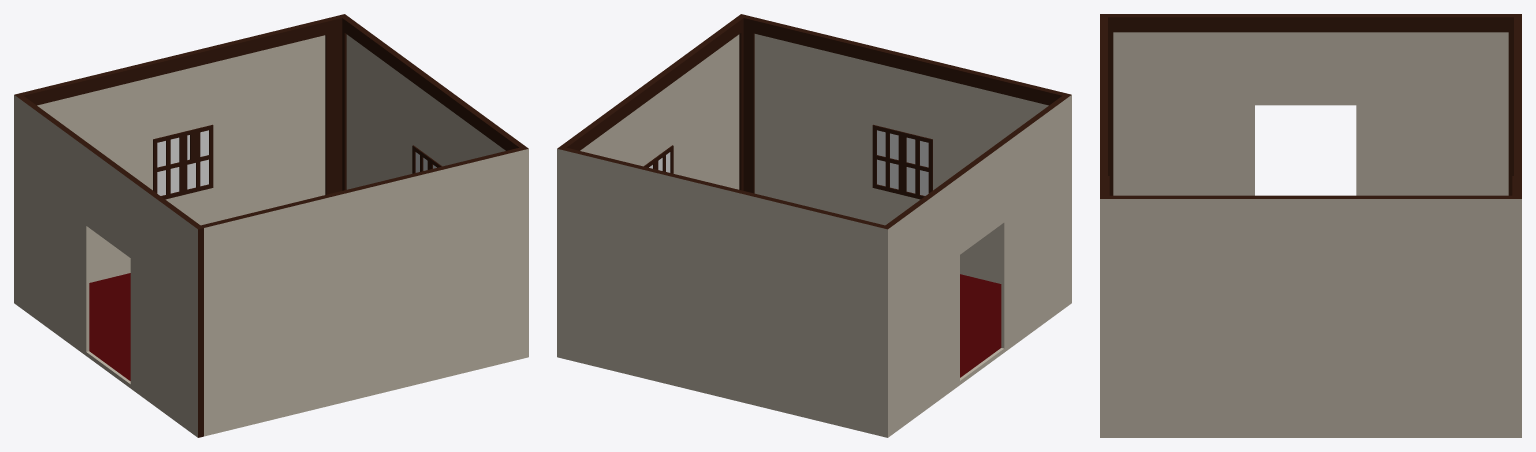
Rendered from StartRoom.fbx.
The picture shows the model from 3 angles, left to right: view 1: azimuth 30°, elevation 25°; view 2: azimuth 150°, elevation 25°; view 3: azimuth 270°, elevation 25°; orthographic projection. The views are drawn at different scales.
Visible parts, largest first — view 1: BackWall.001, BackWall.002, BackWall, Ground Floor; view 2: BackWall.001, BackWall.002, BackWall, Ground Floor; view 3: BackWall, BackWall.001, BackWall.002.
Part boxes in pixels (x1=…): BackWall.001: x1=14, y1=15, x2=342, y2=437; BackWall.002: x1=201, y1=147, x2=522, y2=436; BackWall: x1=339, y1=14, x2=528, y2=358; Ground Floor: x1=89, y1=273, x2=130, y2=380; BackWall.001: x1=563, y1=93, x2=1071, y2=437; BackWall.002: x1=743, y1=15, x2=1065, y2=283; BackWall: x1=557, y1=14, x2=746, y2=358; Ground Floor: x1=960, y1=274, x2=1001, y2=377; BackWall: x1=1100, y1=195, x2=1521, y2=437; BackWall.001: x1=1100, y1=14, x2=1521, y2=195; BackWall.002: x1=1100, y1=17, x2=1109, y2=195.
Size of the model in its own units: 8300 by 5002 by 8000.
